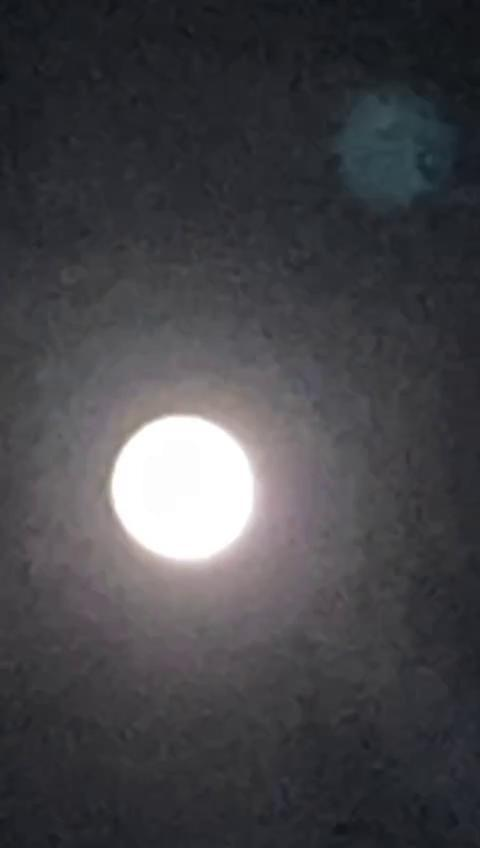moon: (106, 393, 272, 584)
